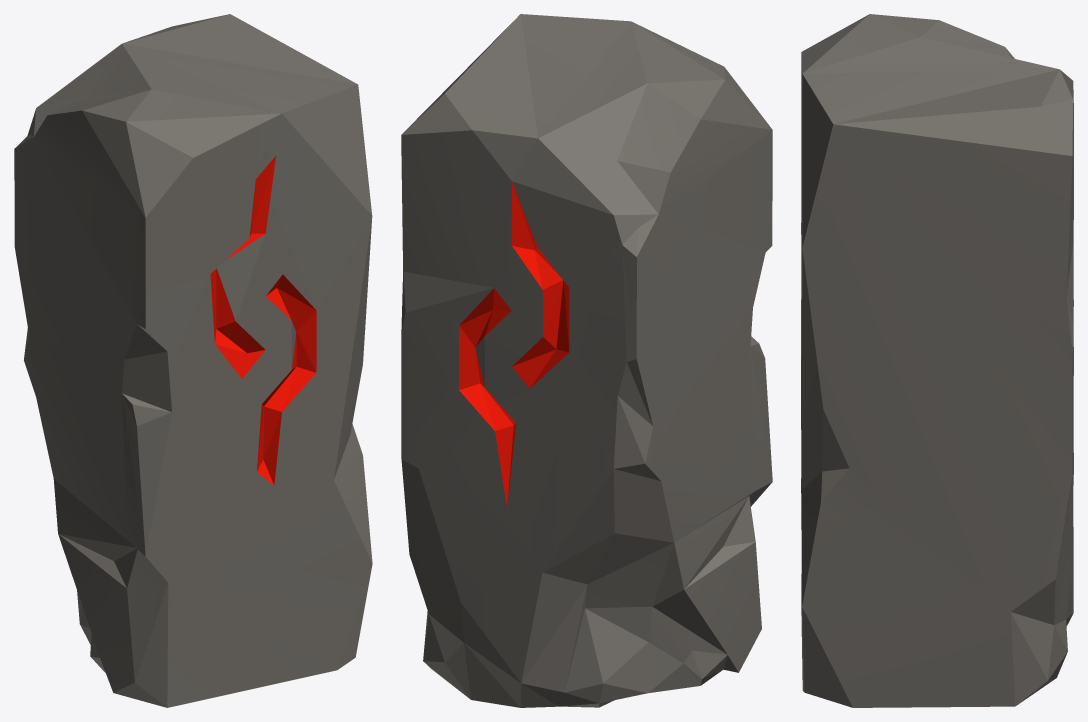
The model's file is SM_Env_Rune_Pillar_05.obj.
3 renders of one model, left to right at view 1: azimuth 30°, elevation 25°; view 2: azimuth 150°, elevation 25°; view 3: azimuth 270°, elevation 25°, orthographic. The views are drawn at different scales.
Parts seen in each view (by area): view 1: SM_Env_Rune_Pillar_05; view 2: SM_Env_Rune_Pillar_05; view 3: SM_Env_Rune_Pillar_05.
Part boxes in pixels (x1=…): SM_Env_Rune_Pillar_05: x1=14, y1=14, x2=372, y2=707; SM_Env_Rune_Pillar_05: x1=401, y1=14, x2=772, y2=707; SM_Env_Rune_Pillar_05: x1=801, y1=14, x2=1073, y2=707.
Size of the model in its own units: 0.2337 by 0.5566 by 0.2337.
